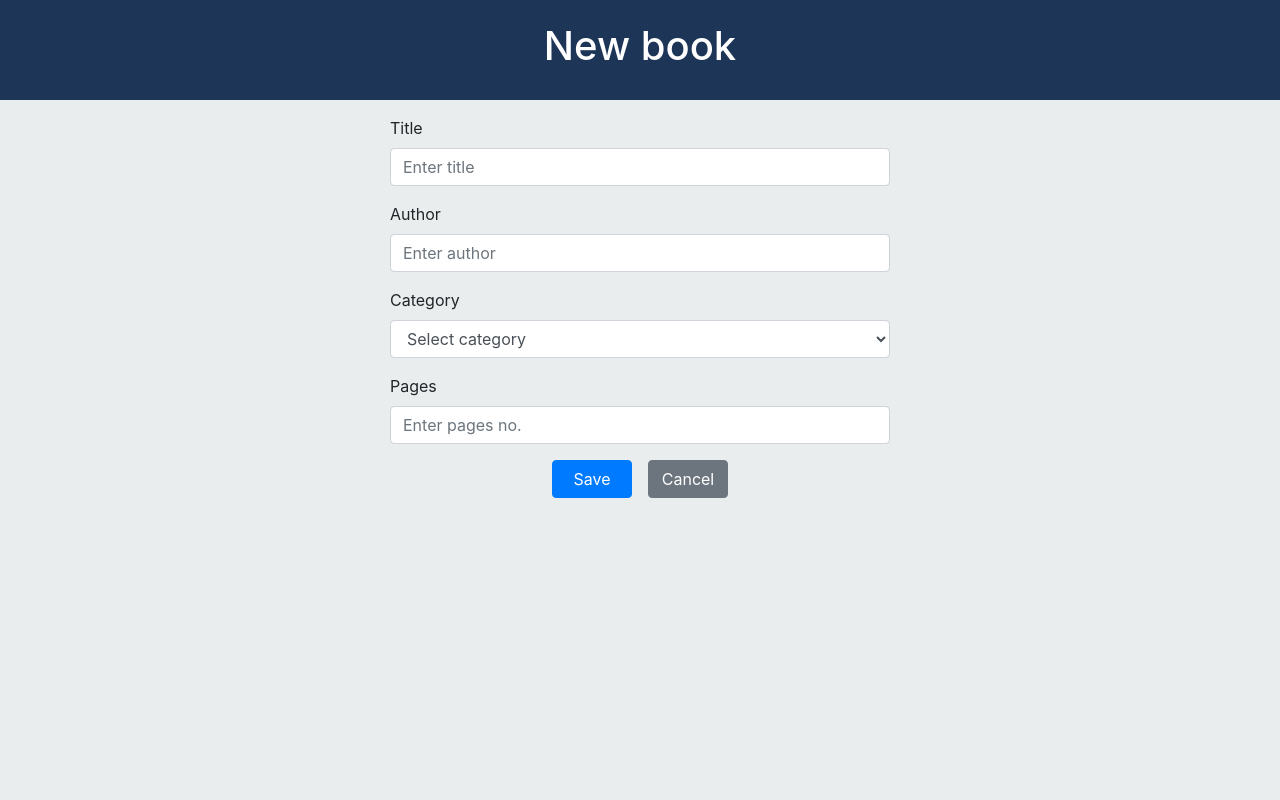
Test: Adding a book › should show error and keep data if save failed
Type "The Hobbit" into the field labelled "Title". click: (640, 167)
box: top-left (390, 148), bottom-right (890, 186)
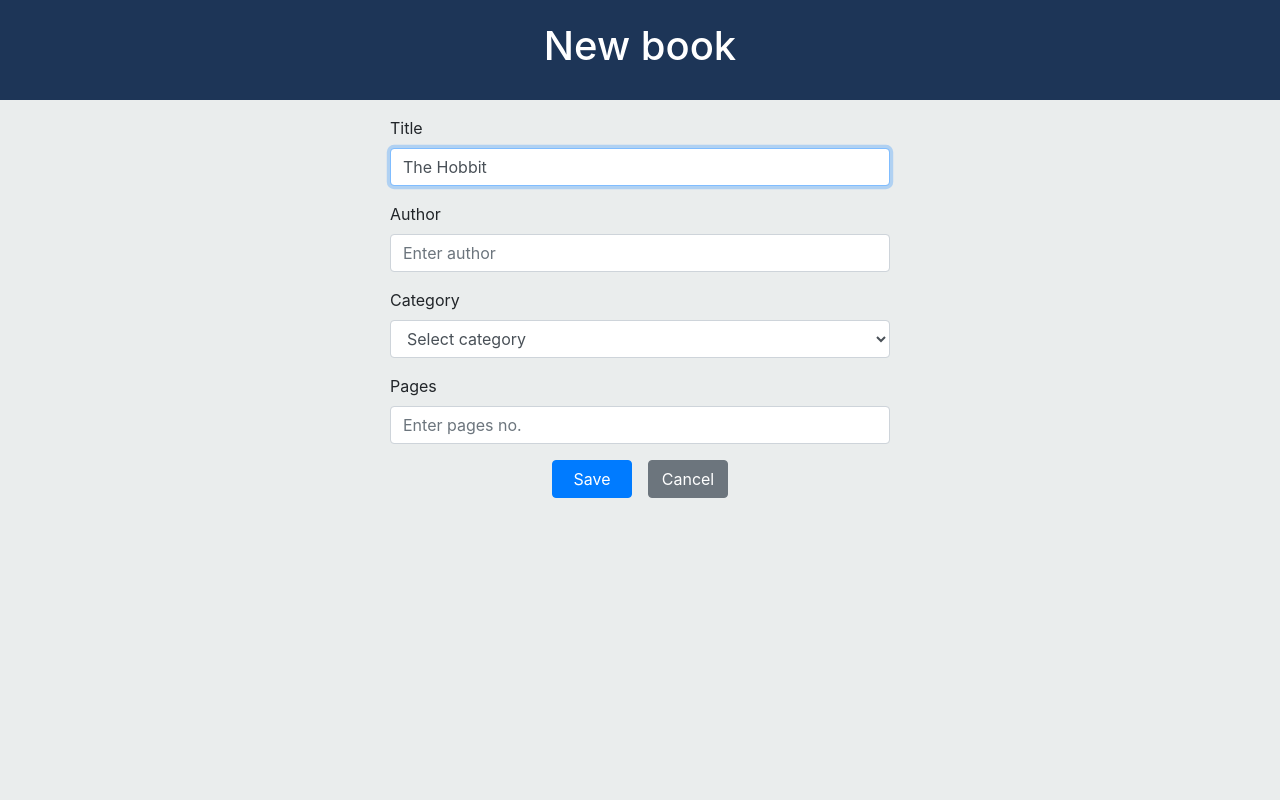
Type "J.R.R. Tolkien" into the field labelled "Author". click: (640, 253)
box: top-left (390, 234), bottom-right (890, 272)
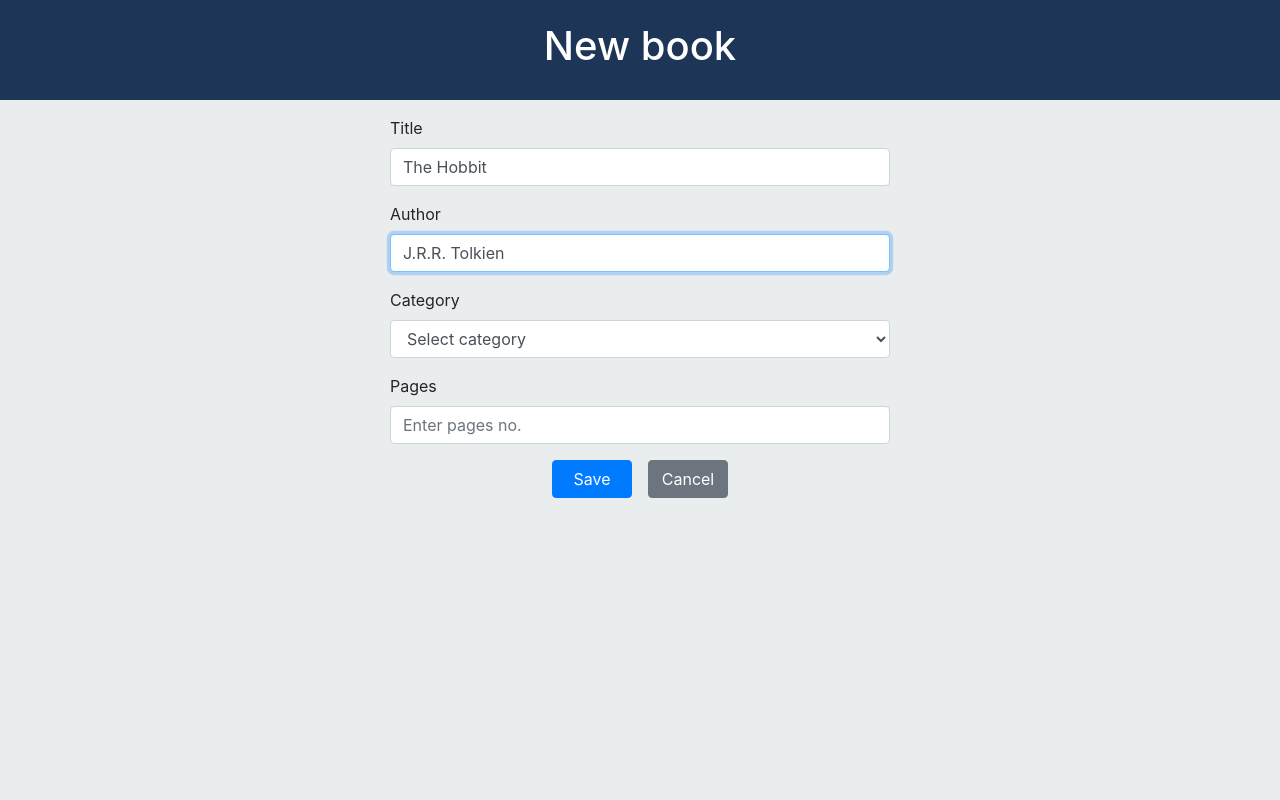
Type "310" into the number field labelled "Pages". click: (640, 425)
box: top-left (390, 406), bottom-right (890, 444)
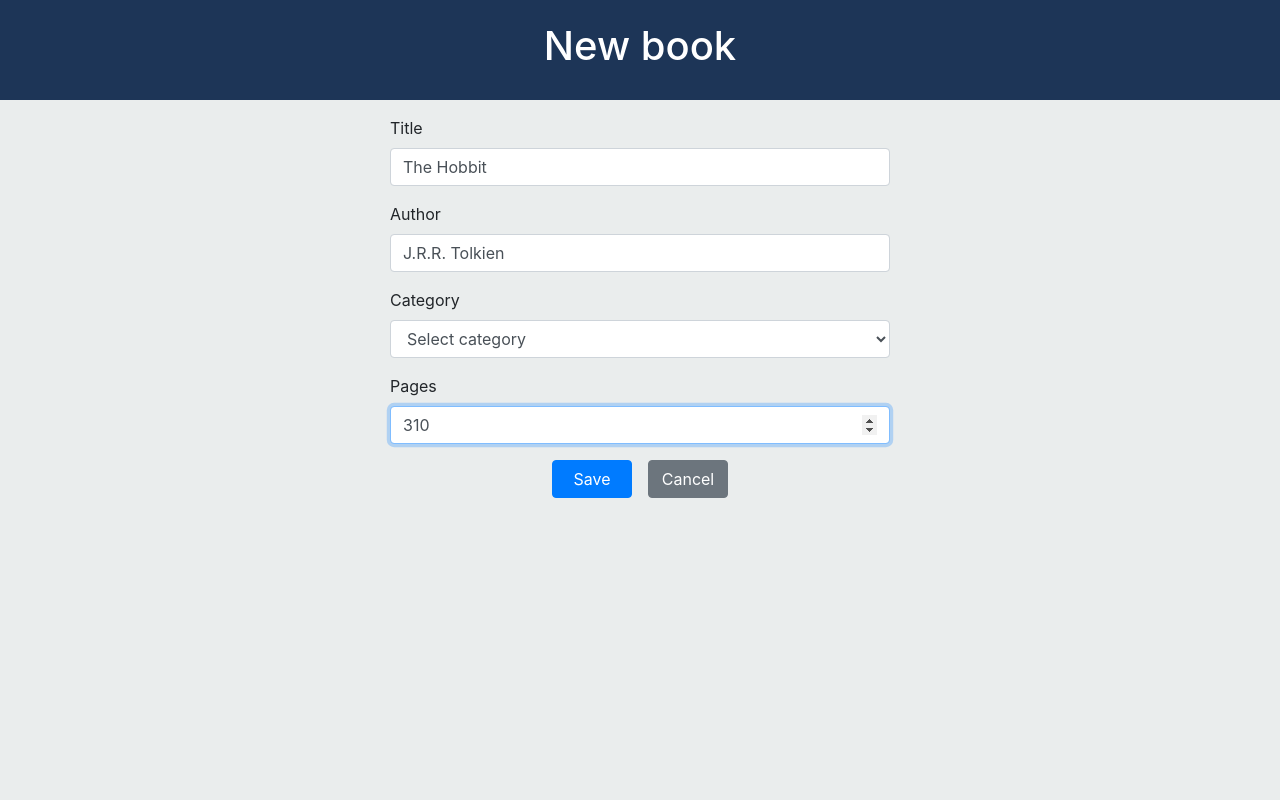
Click the button "Save". click: (592, 479)
box: top-left (552, 460), bottom-right (632, 498)
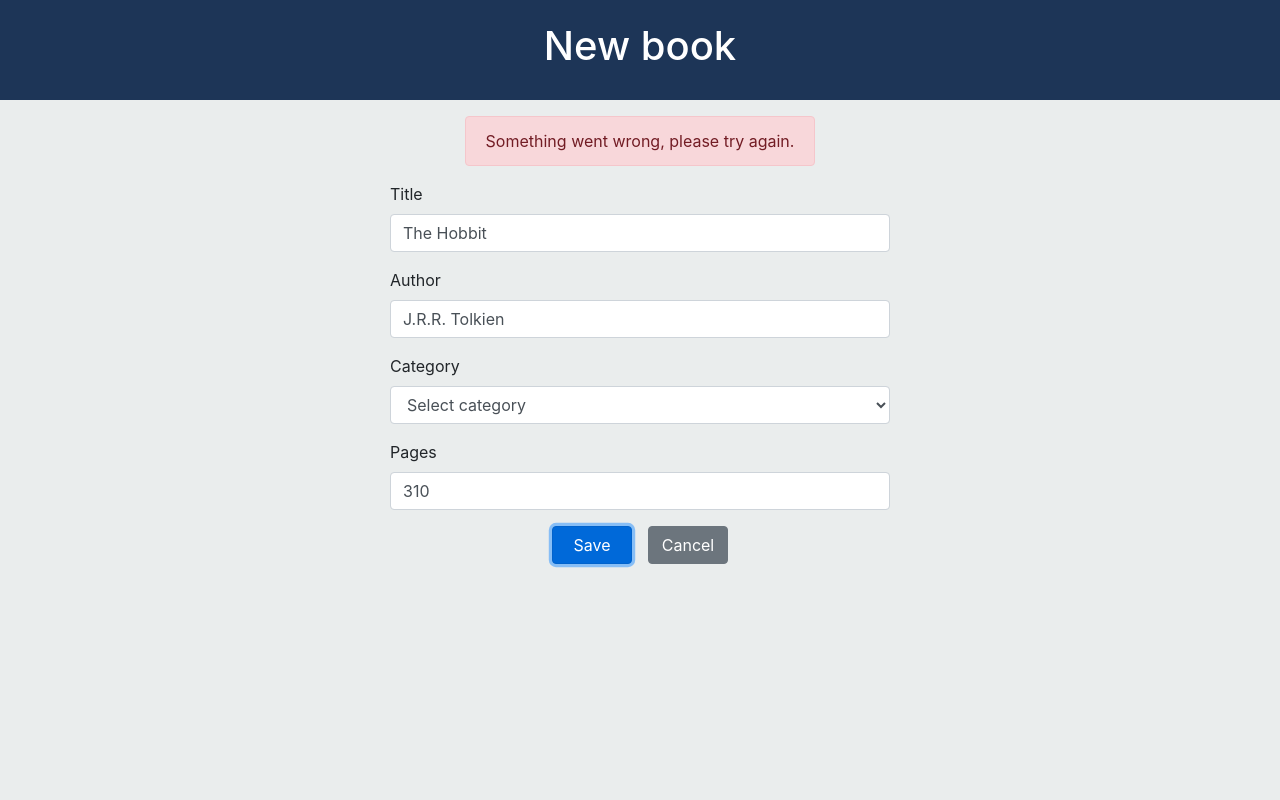
Result: the message reads "Something went wrong, please try again." at top-left (486, 131), bottom-right (794, 151)
